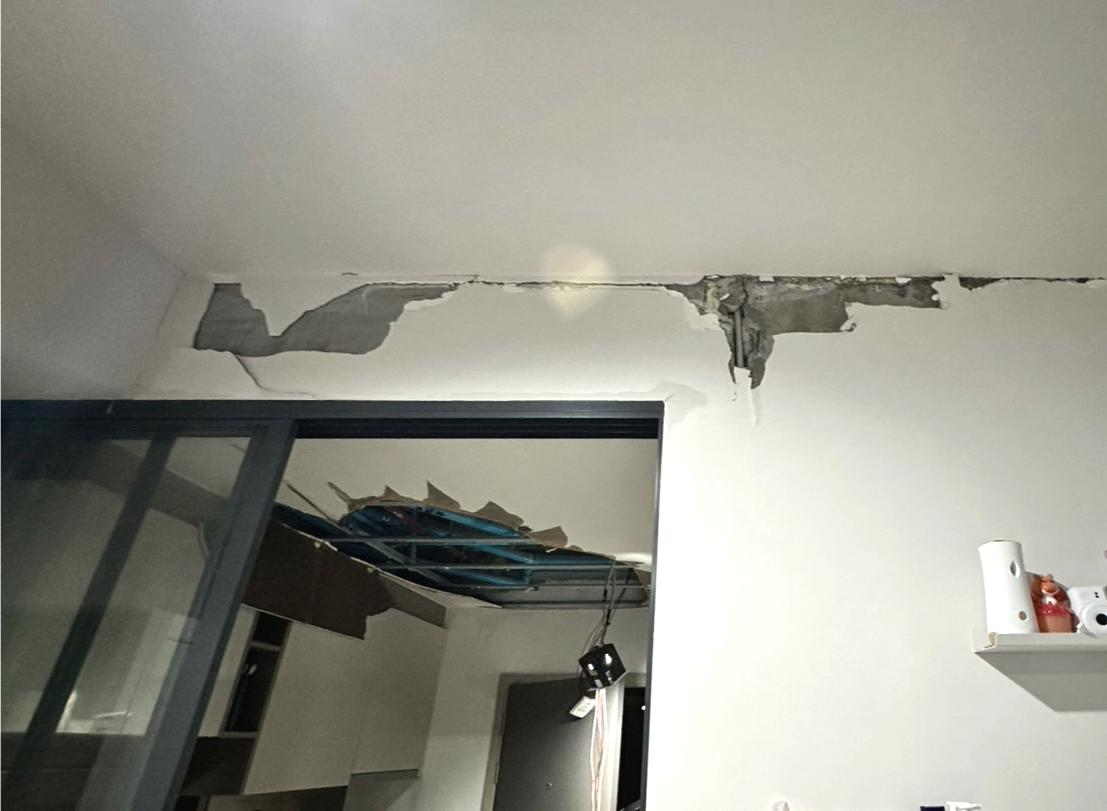High: (161, 246, 1107, 399)
